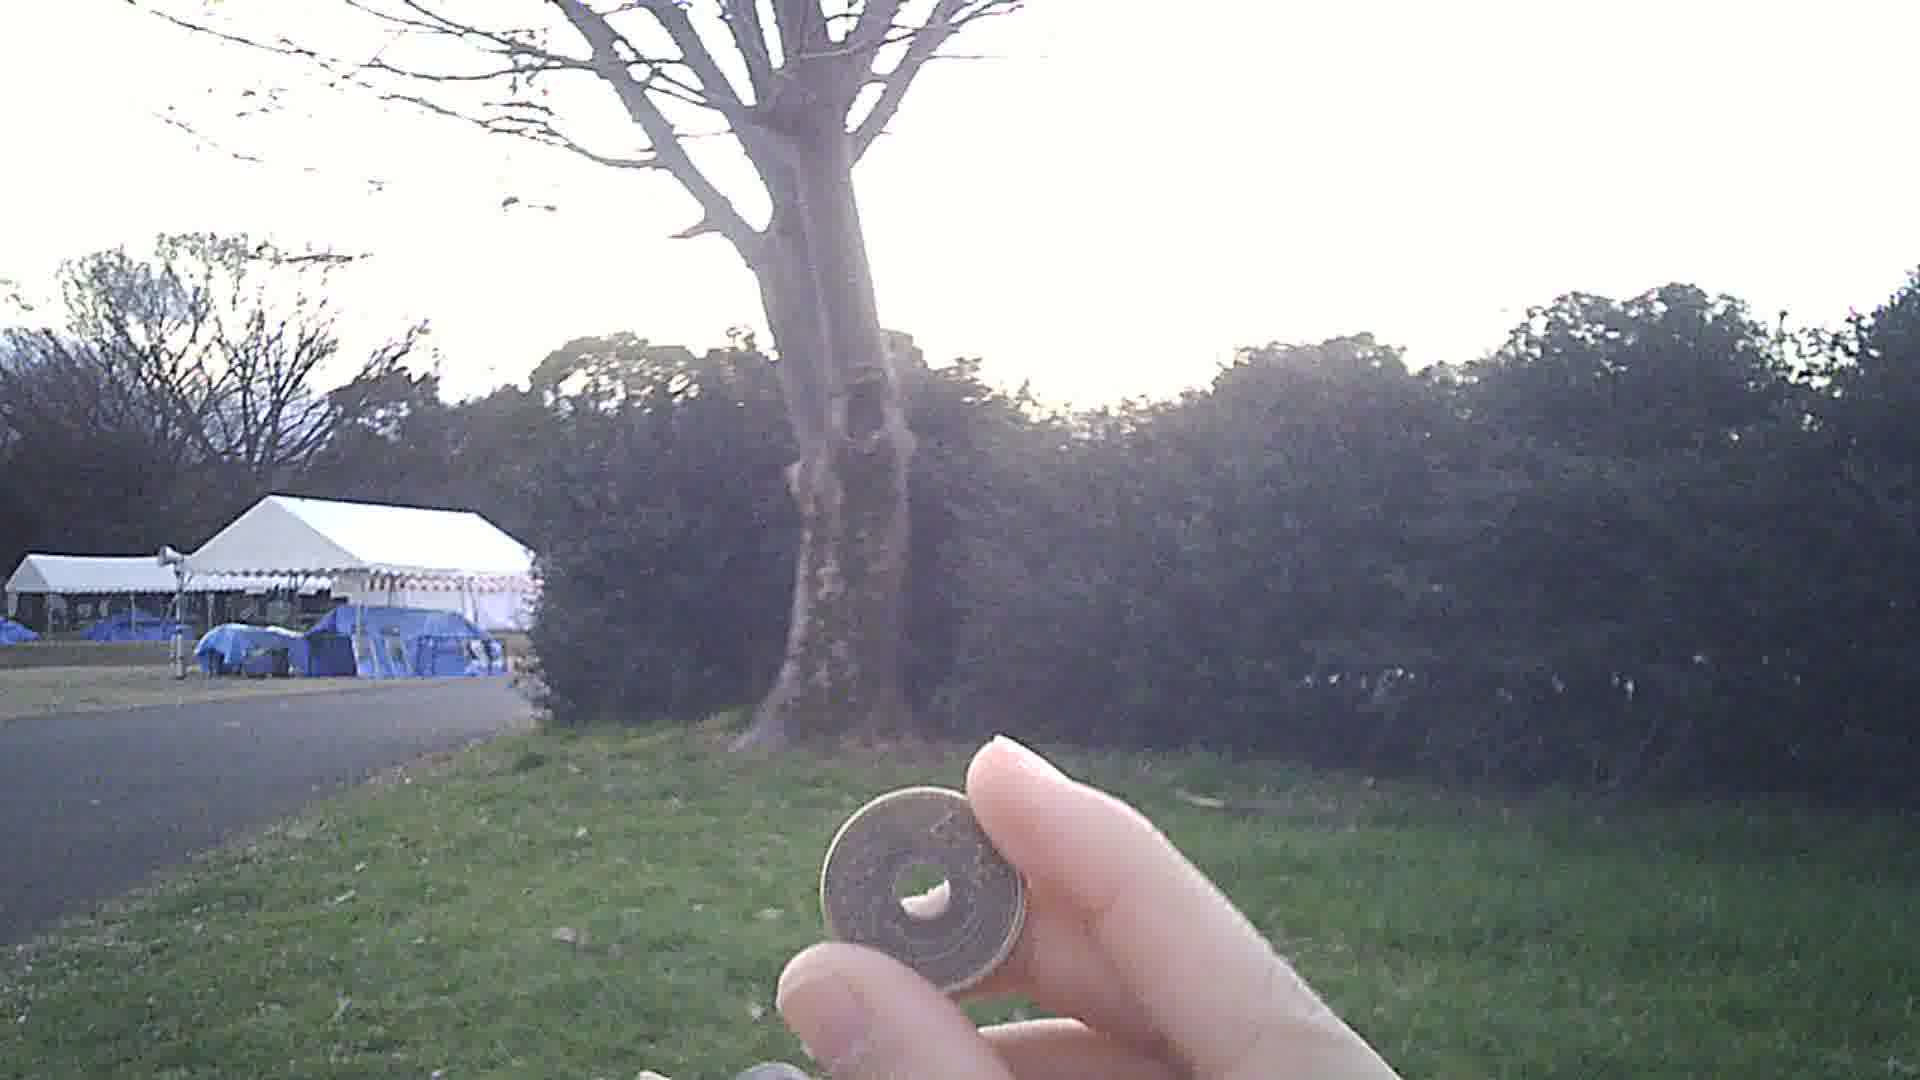5 Yen: (804, 775, 1025, 986)
